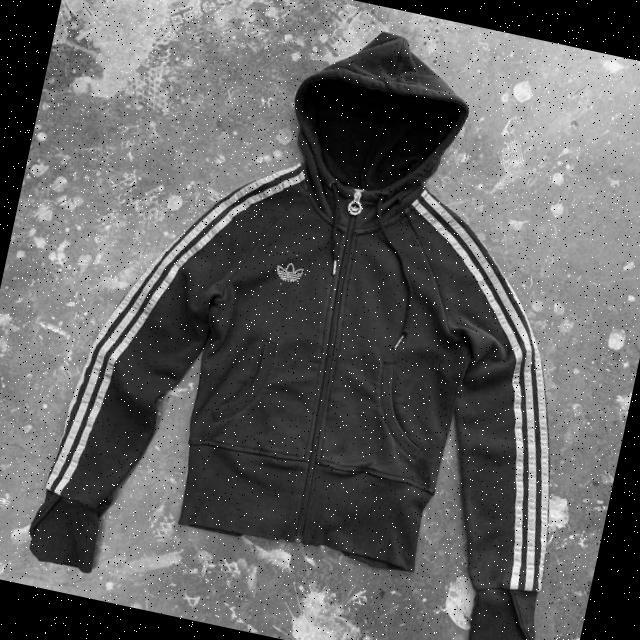Adidas: (259, 245, 311, 299)
